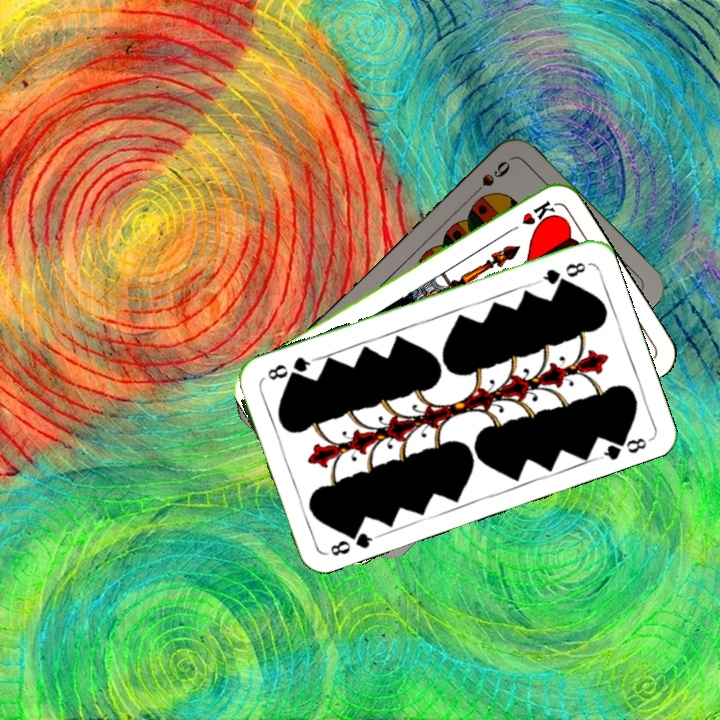G8: (326, 523, 379, 559), (534, 258, 589, 287)
HK: (502, 196, 558, 237)
S9: (465, 156, 513, 202)
